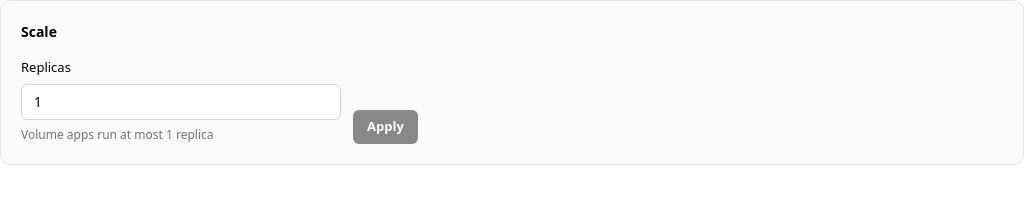
Test: AppScaleCard › caps volume apps at one replica
expect the text "Volume apps run at most 1 replica" is shown: met, box [21,126,214,142]
Replace the text in the number field labelled "Replicas" with "2". click: (181,102)
box: [21,84,341,120]
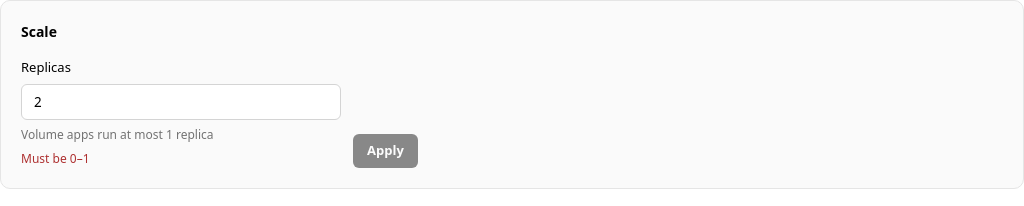
expect the text "Must be 0–1" is shown: met, box [21,150,90,166]
